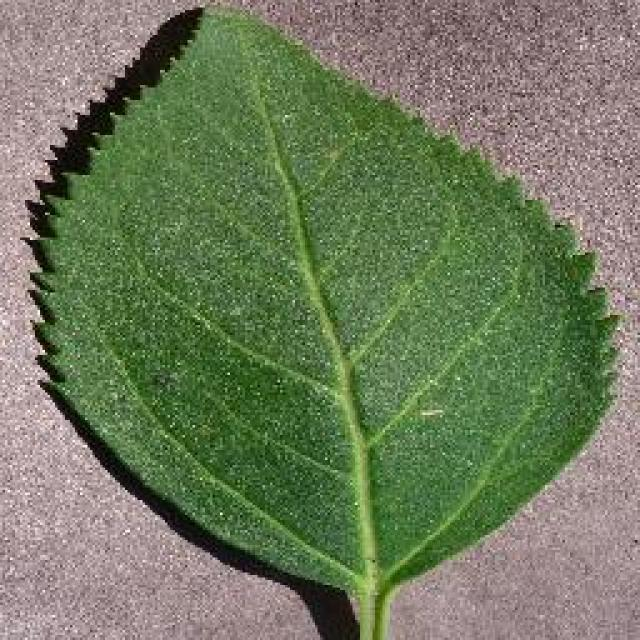Cherry___healthy: (5, 0, 630, 640)
